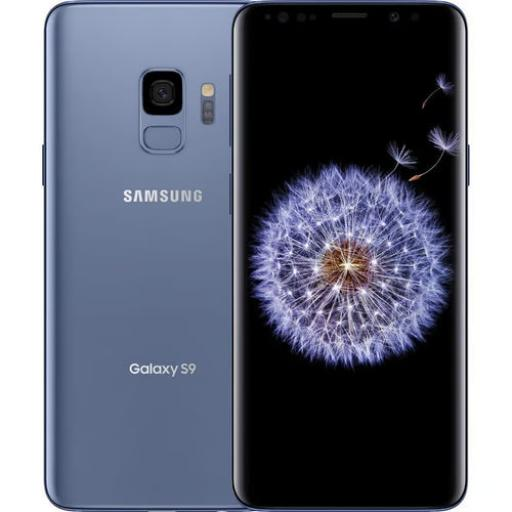phone: (229, 4, 475, 512)
